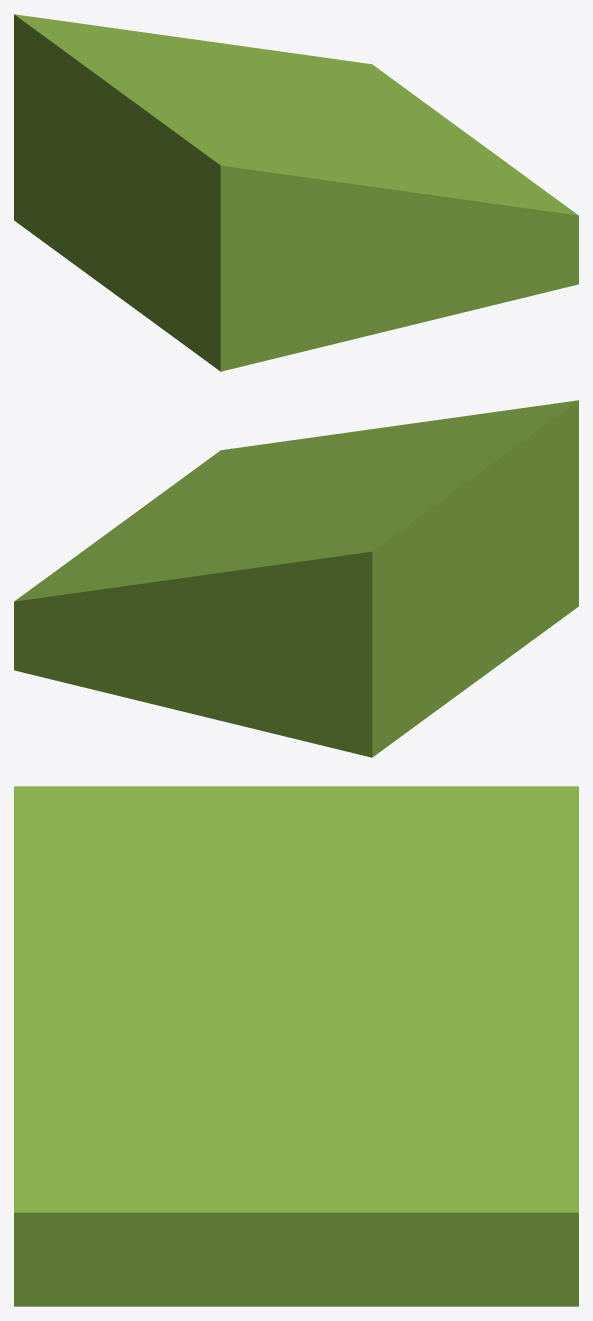
File: roadTile_152.fbx
3 renders of one model, top to bottom at view 1: azimuth 30°, elevation 25°; view 2: azimuth 150°, elevation 25°; view 3: azimuth 270°, elevation 25°, orthographic. The views are drawn at different scales.
Parts seen in each view (by area): view 1: roadTile_152; view 2: roadTile_152; view 3: roadTile_152.
Part boxes in pixels (left/top/right/bottom): roadTile_152: left=14, top=14, right=578, bottom=371; roadTile_152: left=14, top=400, right=578, bottom=757; roadTile_152: left=14, top=786, right=578, bottom=1306.
Size of the model in its own units: 118 by 64.96 by 118.
